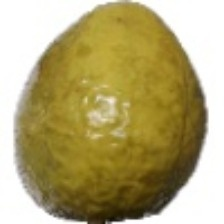guava: (16, 0, 199, 196)
